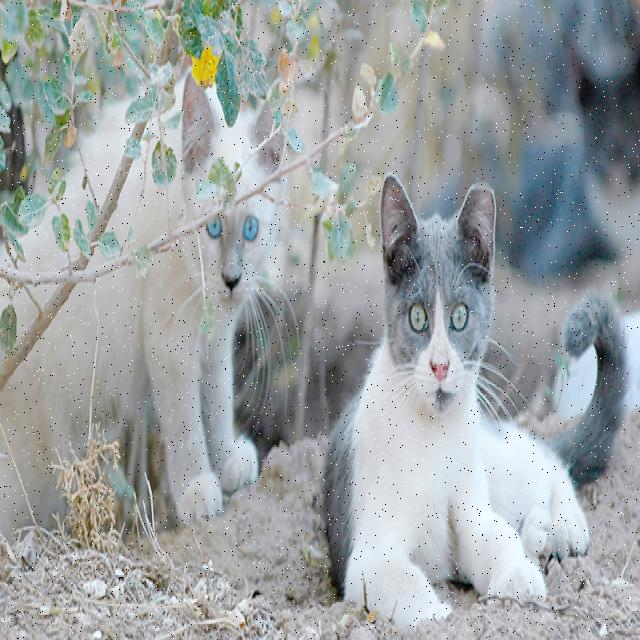cat: (324, 175, 628, 626), (94, 195, 281, 521), (0, 284, 96, 522), (169, 74, 272, 224), (84, 104, 129, 193)
